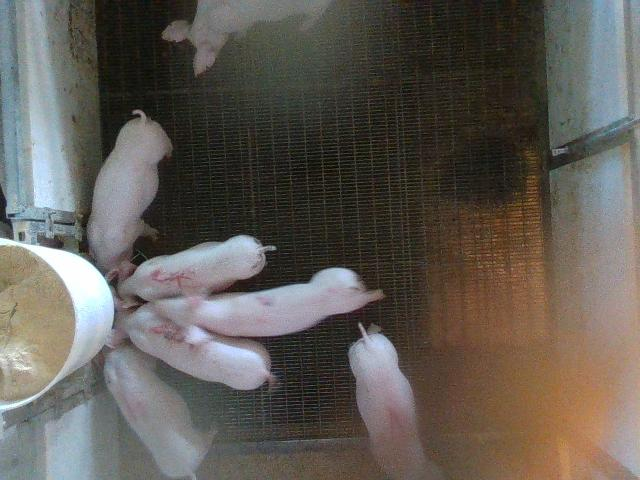pig-1: (349, 322, 444, 479)
pig-3: (106, 305, 274, 390)
pig-4: (104, 344, 216, 479)
pig-5: (106, 235, 276, 309)
